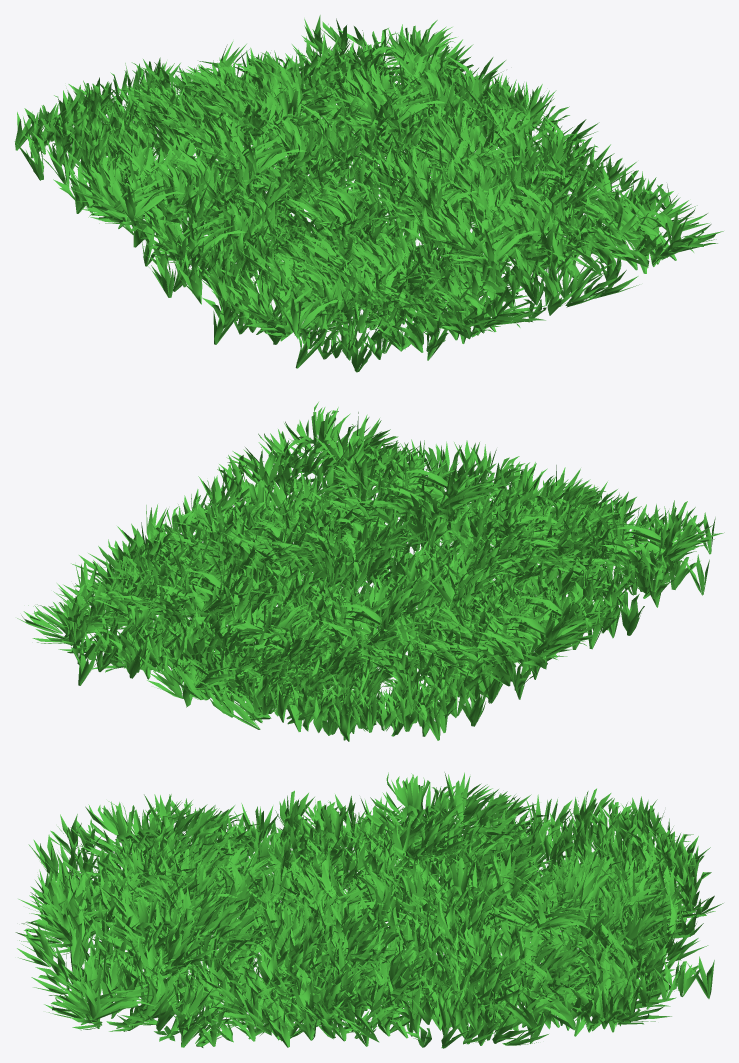
The model's file is grass.glb.
3 renders of one model, top to bottom at view 1: azimuth 30°, elevation 25°; view 2: azimuth 150°, elevation 25°; view 3: azimuth 270°, elevation 25°, orthographic. The views are drawn at different scales.
Parts seen in each view (by area): view 1: Object_10; view 2: Object_10; view 3: Object_10.
Part boxes in pixels (x1,y1,x2,y2): Object_10: (14, 15, 723, 372); Object_10: (17, 402, 724, 741); Object_10: (15, 772, 723, 1048).
Size of the model in its own units: 0.7799 by 0.1266 by 0.9477.
